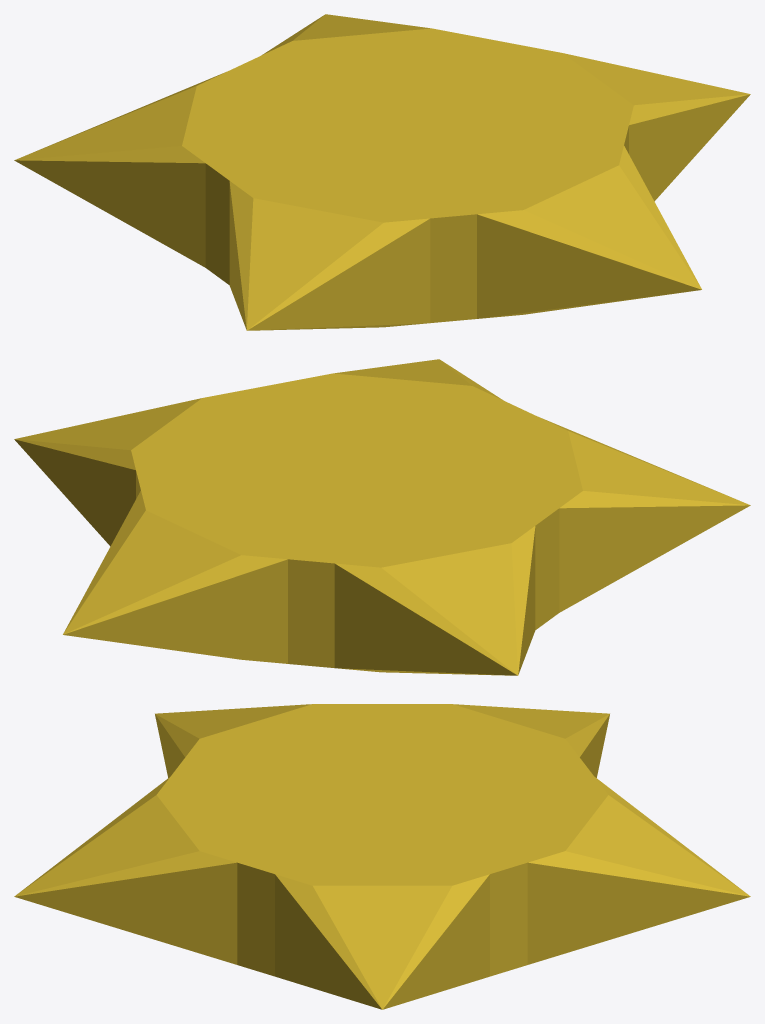
Rendered from Star.fbx.
3 renders of one model, top to bottom at view 1: azimuth 30°, elevation 25°; view 2: azimuth 150°, elevation 25°; view 3: azimuth 270°, elevation 25°, orthographic. The views are drawn at different scales.
Visible parts, largest first — view 1: Cylinder; view 2: Cylinder; view 3: Cylinder.
Part boxes in pixels (x1,y1,x2,y2): Cylinder: (14, 14, 750, 330); Cylinder: (14, 359, 750, 675); Cylinder: (14, 704, 750, 1009).
Bounding box in the file's own units: 310 × 50 × 326.
Materials: 1 (1 with a texture image).
